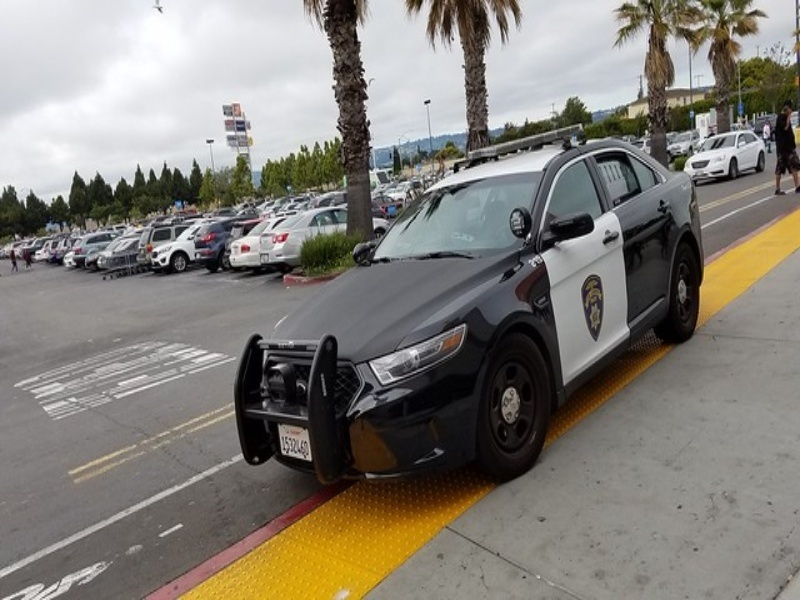policecar: (296, 165, 735, 446)
